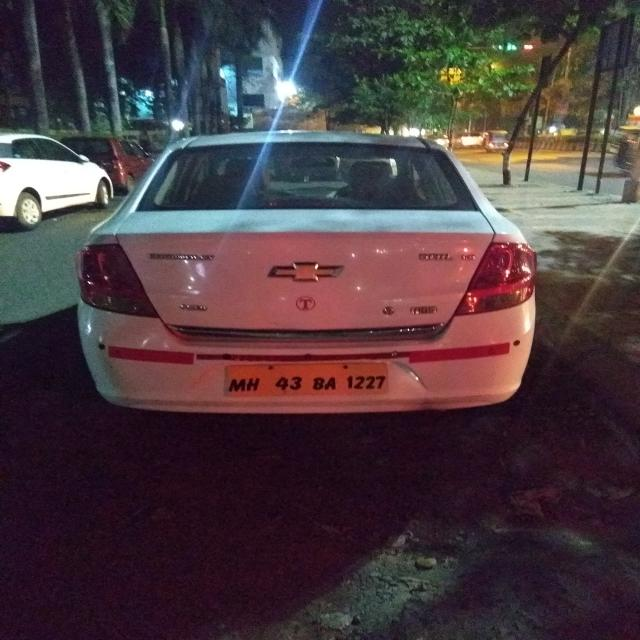Number-Plate: (220, 366, 396, 404)
